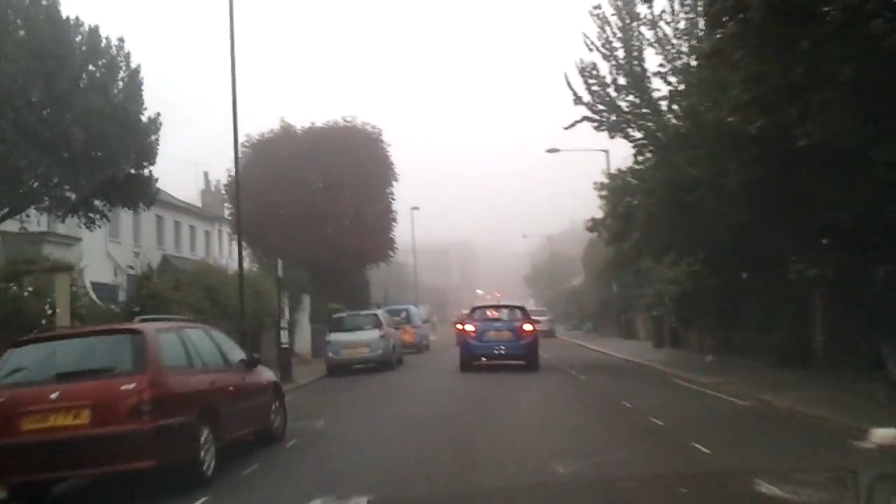car: (1, 311, 288, 502), (454, 303, 542, 376), (322, 310, 405, 376), (369, 303, 432, 357), (452, 309, 503, 348), (519, 306, 557, 339)
